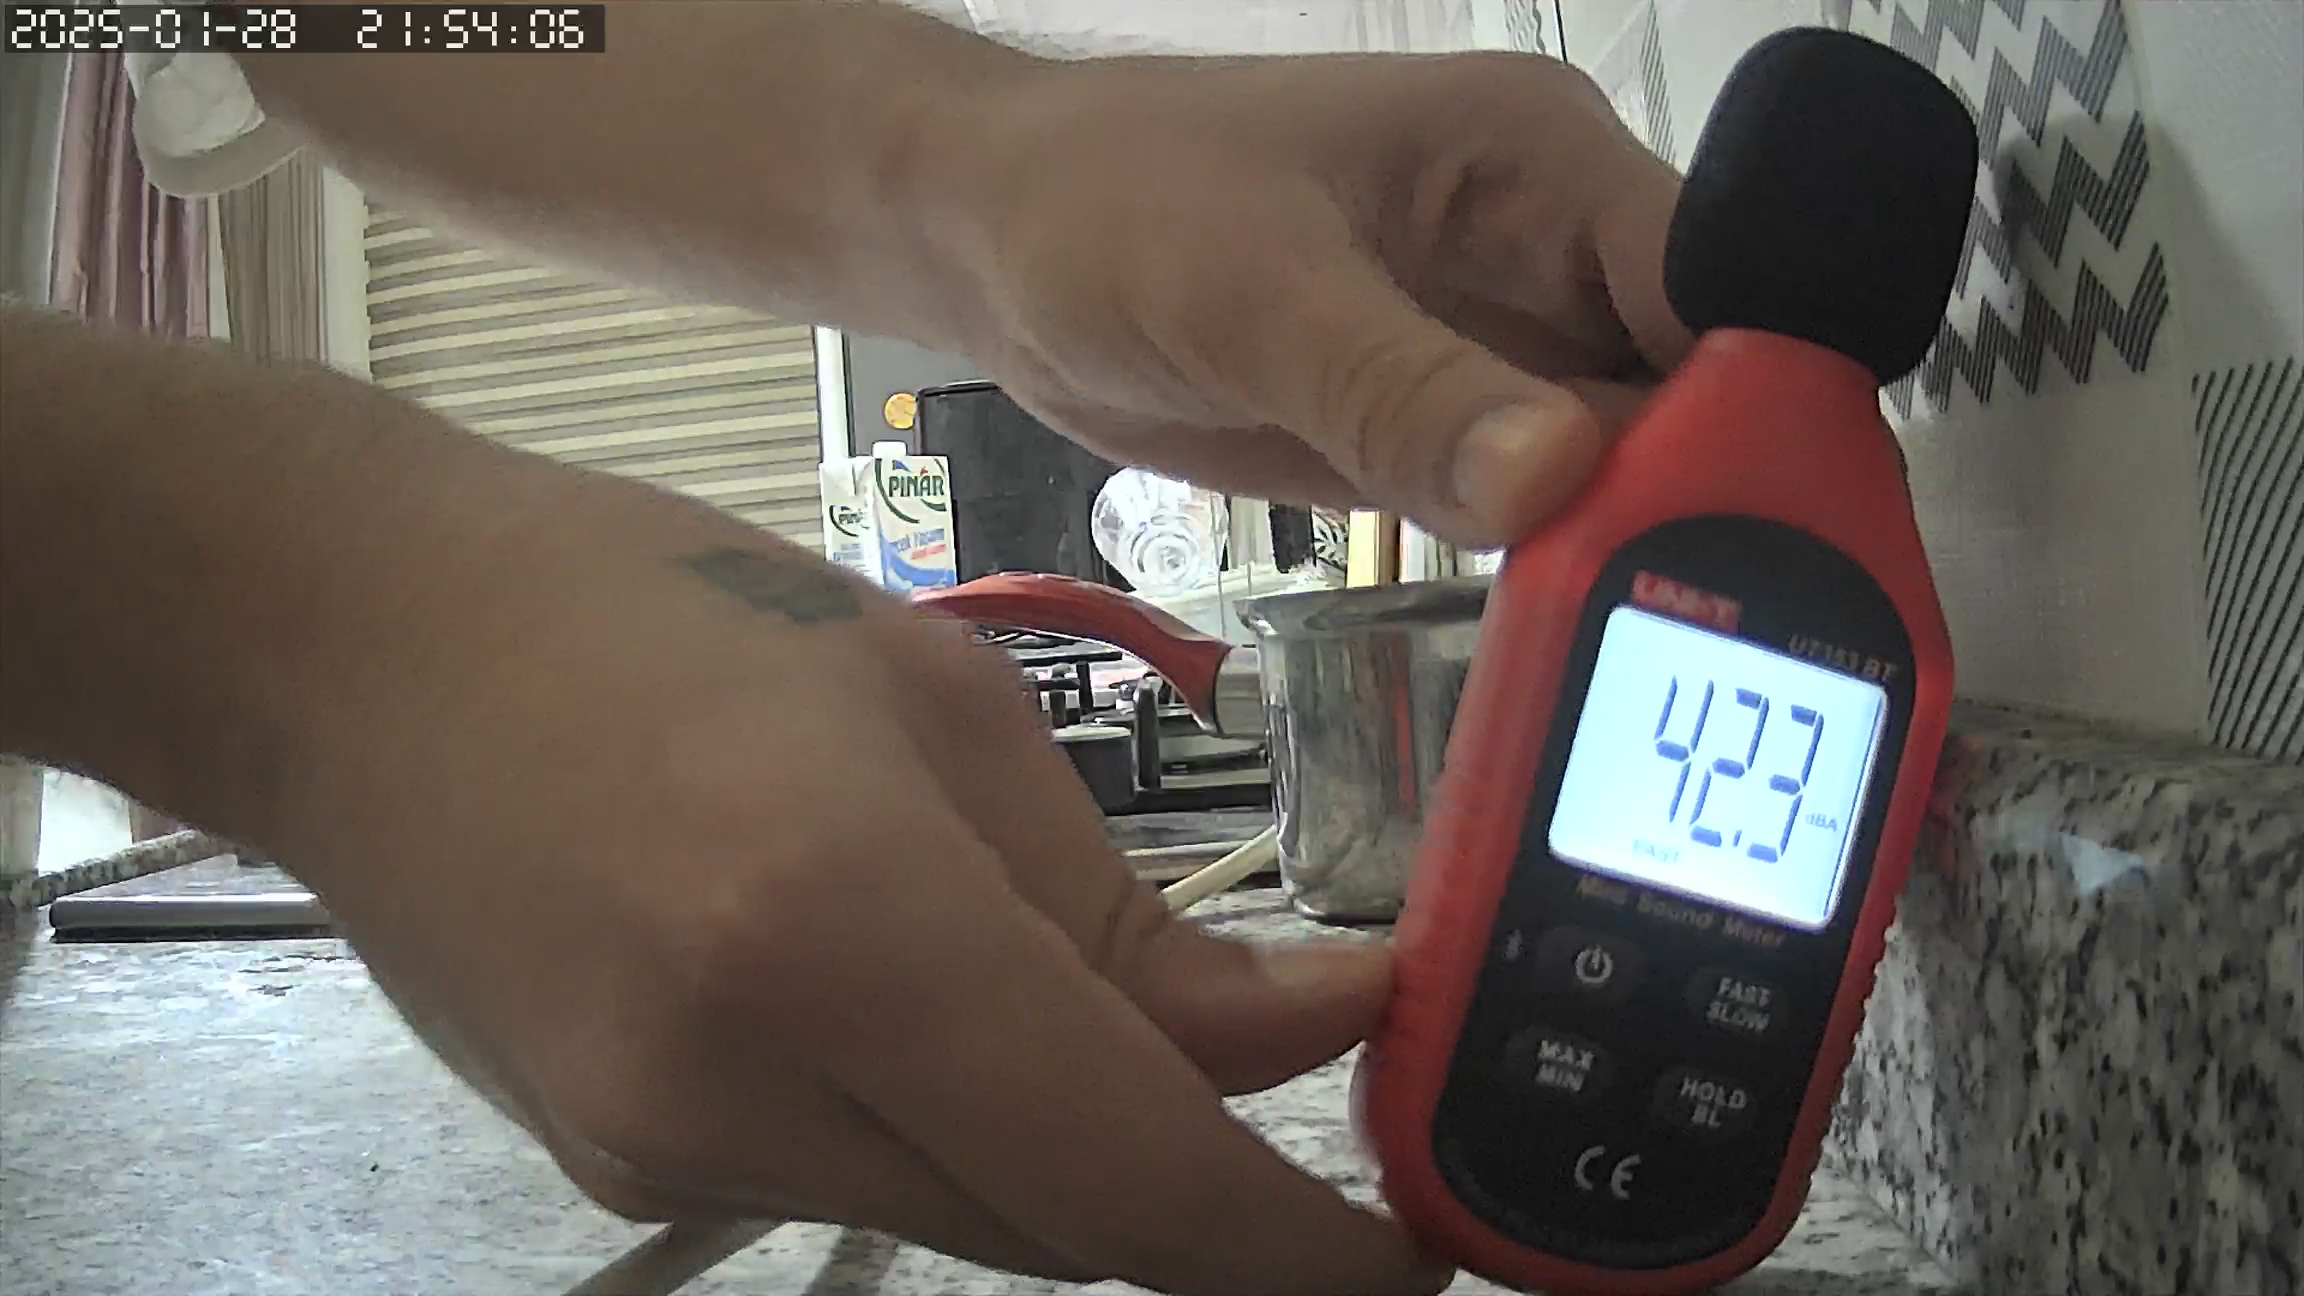screen: (1548, 603, 1889, 934)
